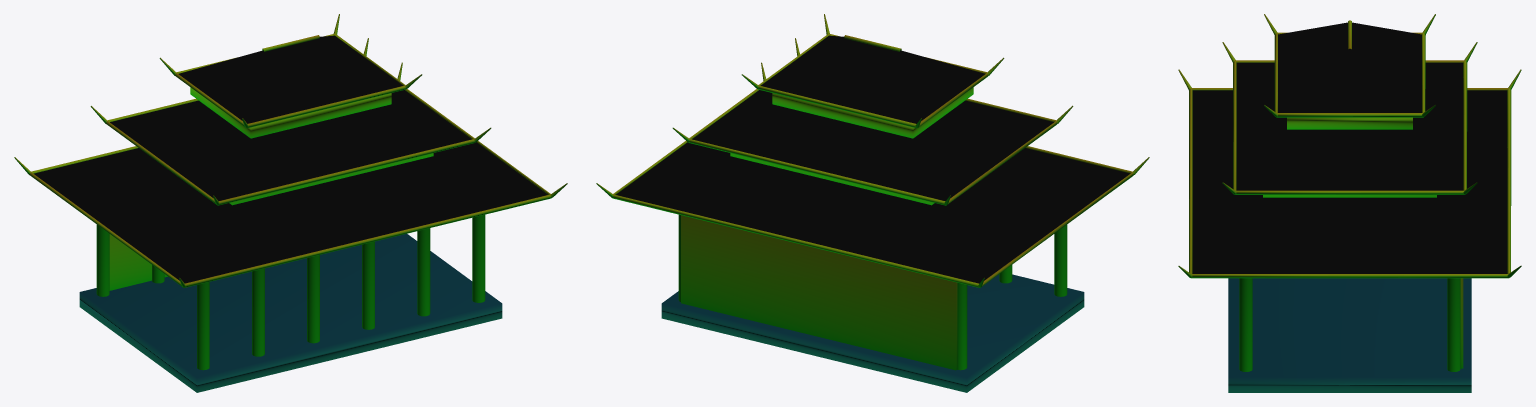
The model's file is lacquer_hall.glb.
3 views of the same model, side by side, from view 1: azimuth 30°, elevation 25°; view 2: azimuth 150°, elevation 25°; view 3: azimuth 270°, elevation 25° (orthographic). The views are drawn at different scales.
Parts seen in each view (by area): view 1: lacquer_hall; view 2: lacquer_hall; view 3: lacquer_hall.
Part boxes in pixels (bbox=[...]): lacquer_hall: bbox=[14, 14, 567, 392]; lacquer_hall: bbox=[596, 14, 1149, 392]; lacquer_hall: bbox=[1178, 14, 1521, 392].
Size of what is drawn, in the model's own units: 15.23 by 10.15 by 11.23.
